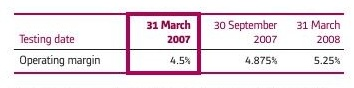table: (0, 0, 354, 88)
